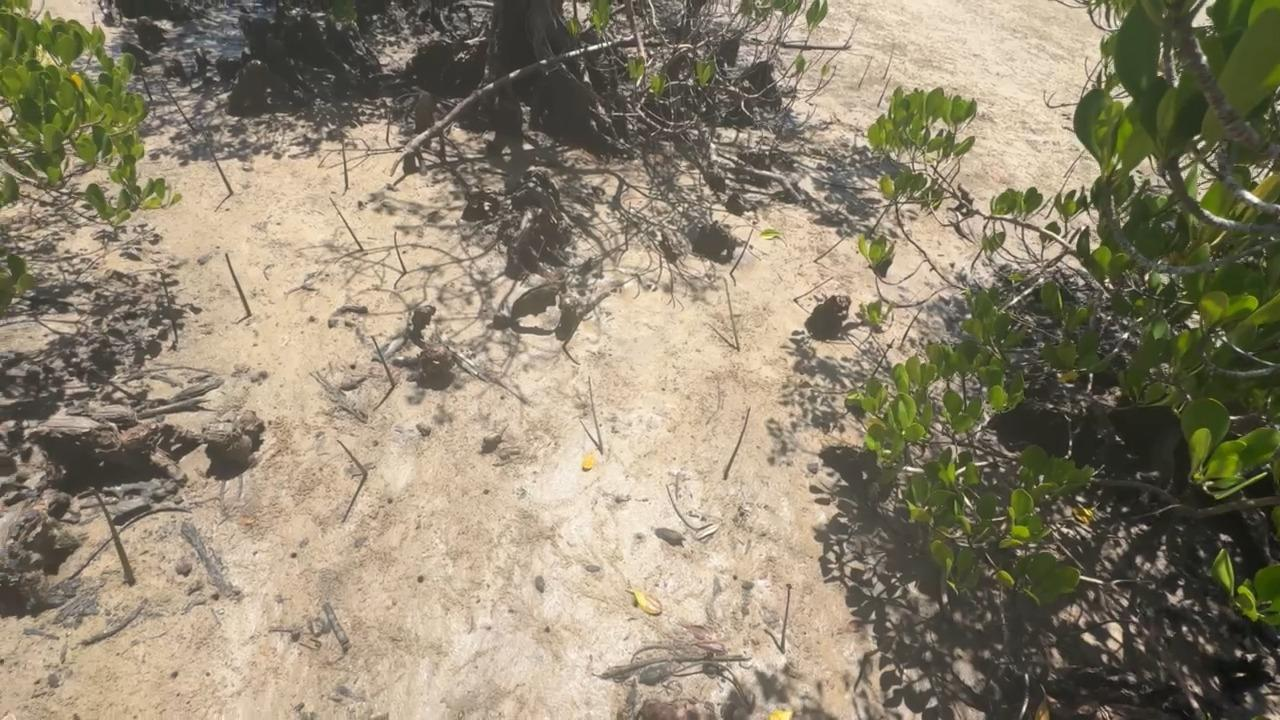Tree: (90, 488, 136, 586), (724, 407, 751, 480), (329, 197, 364, 251), (160, 79, 195, 131), (1043, 165, 1076, 220), (225, 253, 252, 318), (665, 484, 698, 531), (813, 227, 857, 262), (160, 271, 179, 341), (588, 376, 604, 455), (723, 277, 740, 351), (209, 145, 234, 195), (371, 335, 395, 387), (336, 439, 368, 477), (730, 229, 753, 275), (900, 307, 924, 350), (793, 277, 834, 301), (872, 339, 895, 379), (781, 583, 793, 654), (137, 59, 153, 101), (1063, 149, 1086, 178), (393, 231, 407, 273), (1027, 195, 1052, 218), (339, 131, 348, 190), (877, 75, 892, 108), (858, 56, 873, 88), (883, 43, 895, 79), (970, 248, 984, 273), (625, 201, 631, 252), (33, 0, 45, 20), (385, 112, 391, 143), (92, 10, 96, 25), (73, 713, 80, 720)
